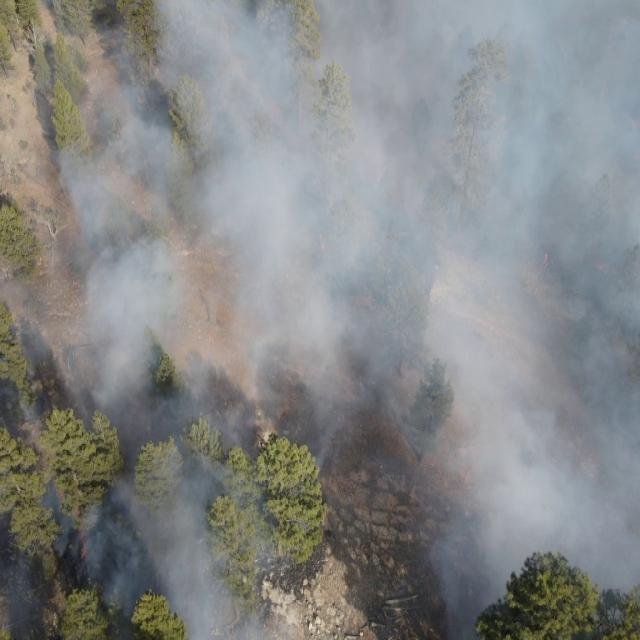fire: (48, 488, 90, 562), (592, 264, 620, 280), (540, 252, 550, 266)
smoke: (0, 0, 640, 640)
